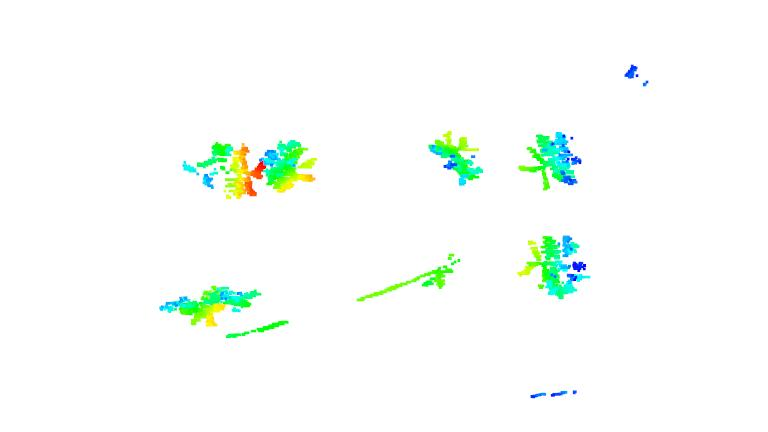chickpea: (180, 136, 260, 200), (522, 233, 591, 299), (519, 130, 585, 193), (426, 128, 486, 189), (261, 136, 321, 196), (155, 282, 218, 331), (426, 251, 463, 294), (221, 282, 262, 317)
